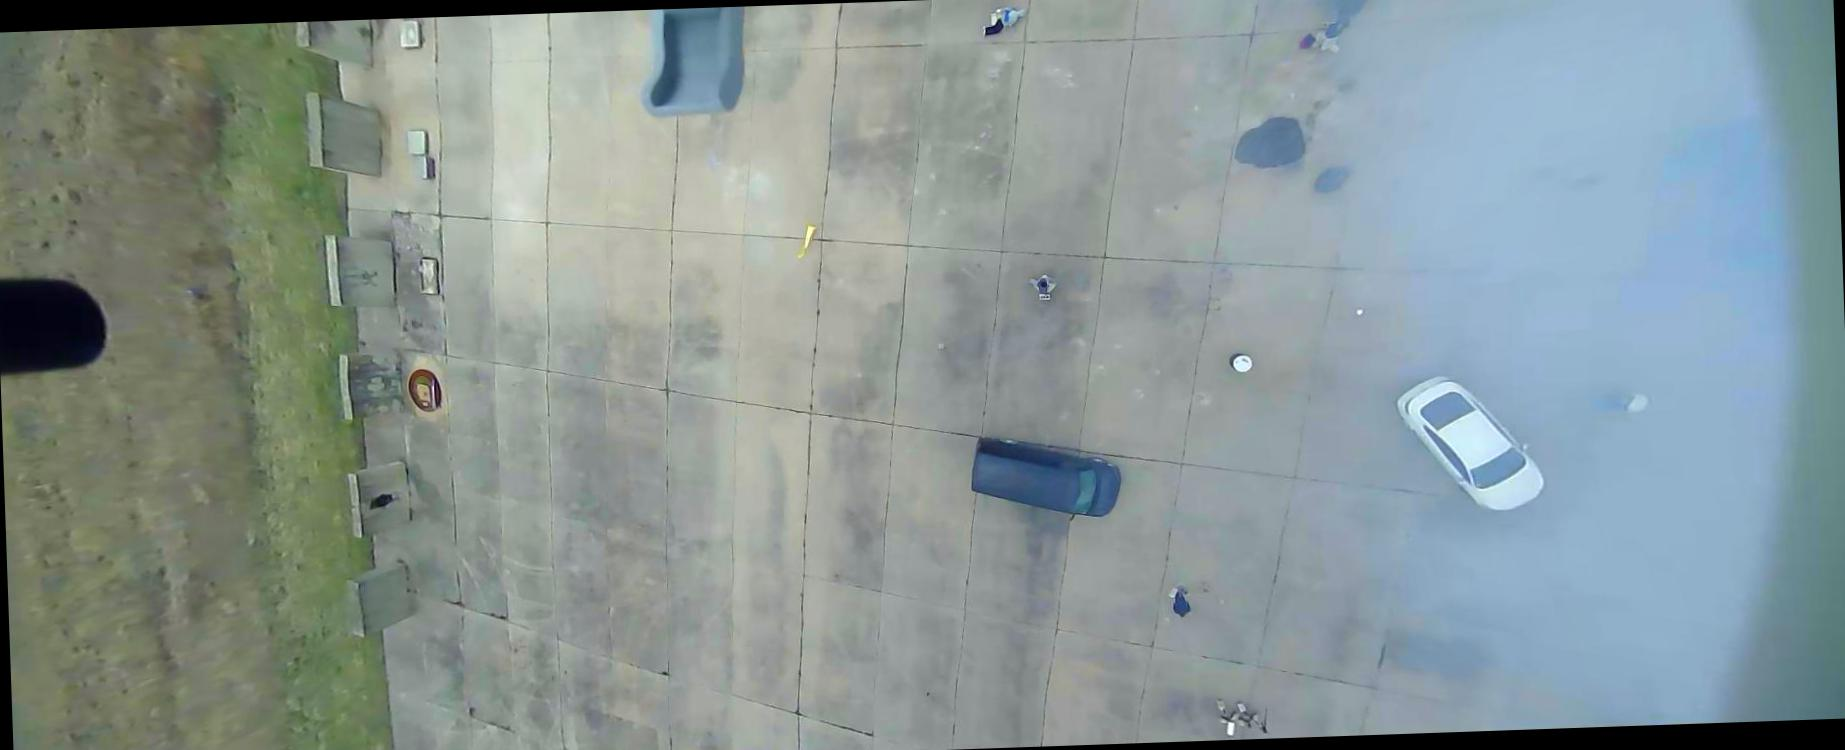vehicle: (1394, 372, 1545, 513), (968, 431, 1123, 524), (1710, 115, 1792, 276)
